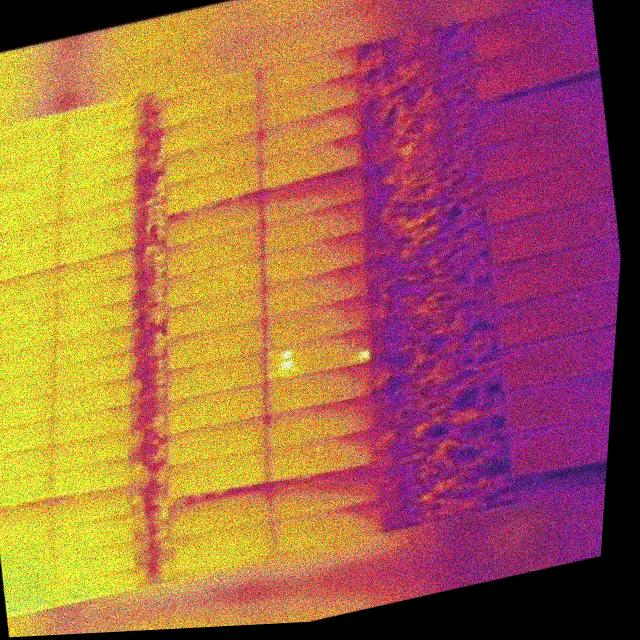Hotspot: (258, 323, 381, 390)
